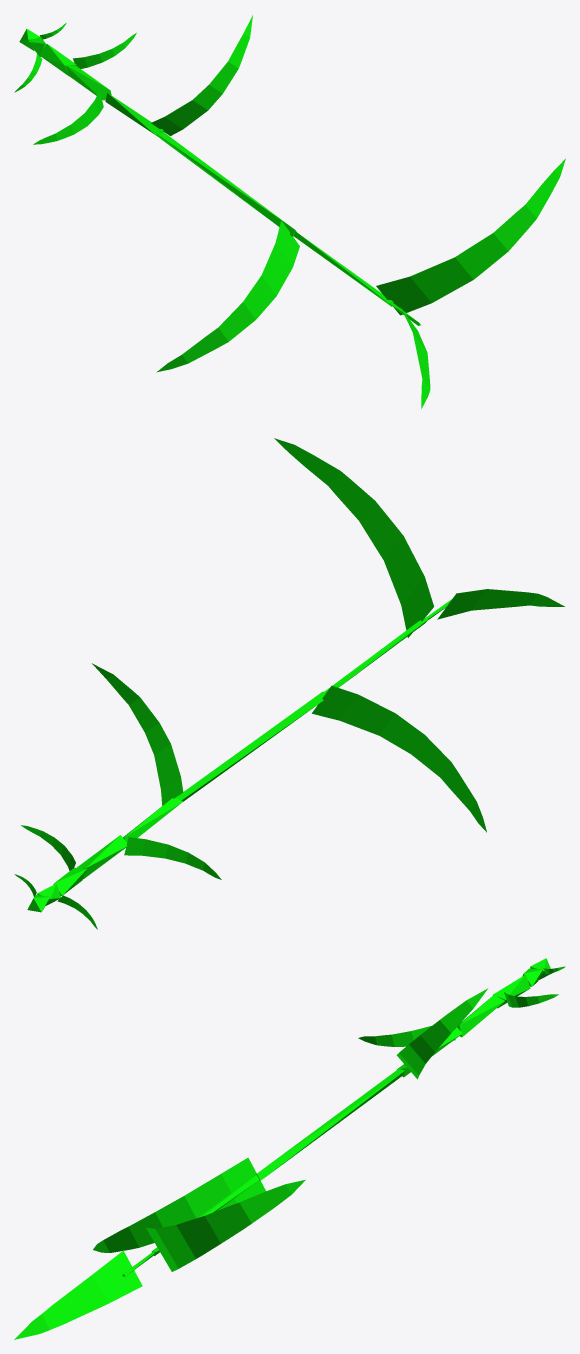
File: usm_10_Beer_2018-08-21_0.obj
3 views of the same model, one above another, from view 1: azimuth 30°, elevation 25°; view 2: azimuth 150°, elevation 25°; view 3: azimuth 330°, elevation 25° (orthographic). The views are drawn at different scales.
Visible parts, largest first — view 1: vid_16, vid_14, vid_12, vid_13, vid_10, vid_18, vid_15, vid_9, vid_11, vid_8; view 2: vid_16, vid_14, vid_12, vid_18, vid_13, vid_10, vid_9, vid_15, vid_11; view 3: vid_16, vid_14, vid_18, vid_12, vid_13, vid_10, vid_9, vid_7.
Boxes of the visible parts, x1=… form: vid_16: x1=376, y1=158, x2=565, y2=315; vid_14: x1=156, y1=220, x2=299, y2=372; vid_12: x1=151, y1=15, x2=252, y2=135; vid_13: x1=157, y1=132, x2=296, y2=236; vid_10: x1=33, y1=90, x2=103, y2=144; vid_18: x1=400, y1=307, x2=430, y2=408; vid_15: x1=293, y1=231, x2=393, y2=306; vid_9: x1=66, y1=65, x2=111, y2=100; vid_11: x1=105, y1=92, x2=163, y2=137; vid_8: x1=73, y1=32, x2=136, y2=68; vid_16: x1=274, y1=438, x2=433, y2=637; vid_14: x1=312, y1=685, x2=486, y2=832; vid_12: x1=92, y1=663, x2=183, y2=805; vid_18: x1=437, y1=589, x2=564, y2=619; vid_13: x1=176, y1=691, x2=324, y2=801; vid_10: x1=124, y1=837, x2=221, y2=879; vid_9: x1=76, y1=835, x2=127, y2=879; vid_15: x1=323, y1=618, x2=428, y2=694; vid_11: x1=123, y1=797, x2=182, y2=842; vid_16: x1=146, y1=1179, x2=305, y2=1271; vid_14: x1=93, y1=1157, x2=265, y2=1252; vid_18: x1=14, y1=1250, x2=142, y2=1339; vid_12: x1=396, y1=988, x2=488, y2=1079; vid_13: x1=256, y1=1069, x2=405, y2=1180; vid_10: x1=358, y1=1026, x2=455, y2=1046; vid_9: x1=457, y1=995, x2=504, y2=1037; vid_7: x1=493, y1=974, x2=530, y2=1008.
Size of the model in its own units: 78.88 by 53.73 by 200.
